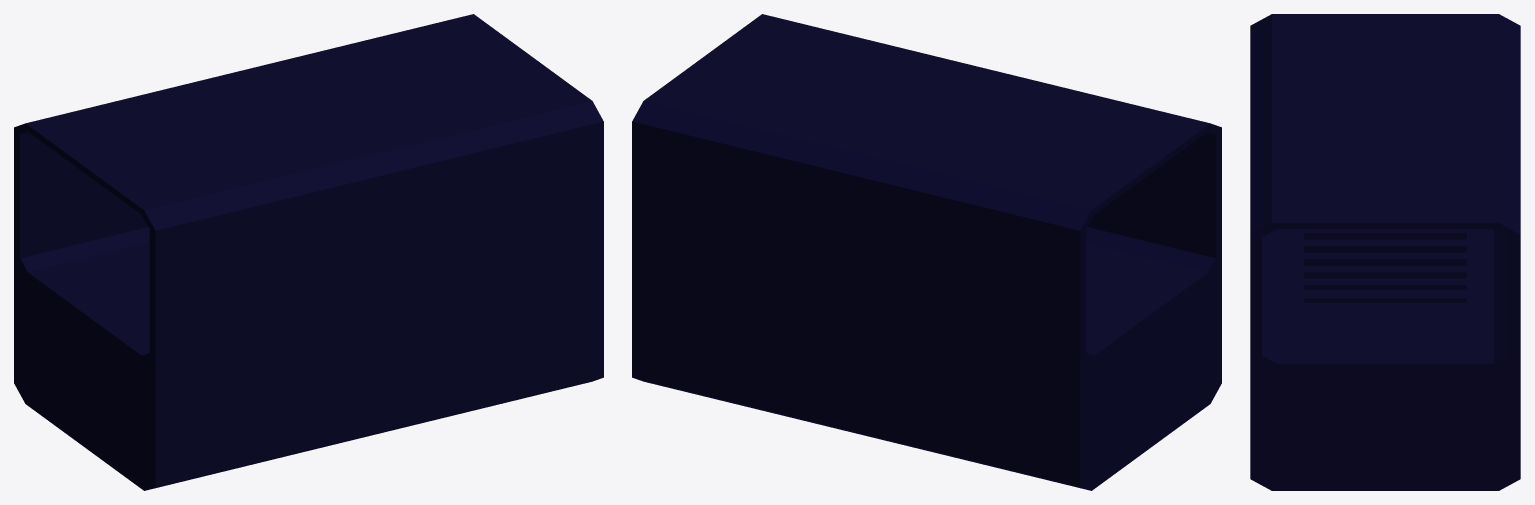
Rendered from vent_plain_holes.fbx.
3 views of the same model, side by side, from view 1: azimuth 30°, elevation 25°; view 2: azimuth 150°, elevation 25°; view 3: azimuth 270°, elevation 25° (orthographic). The views are drawn at different scales.
Parts seen in each view (by area): view 1: Cube; view 2: Cube; view 3: Cube.
Part boxes in pixels (x1,y1,x2,y2): Cube: [14, 14, 603, 490]; Cube: [632, 14, 1221, 490]; Cube: [1250, 14, 1520, 490].
Size of the model in its own units: 4000 by 2393 by 2185.
